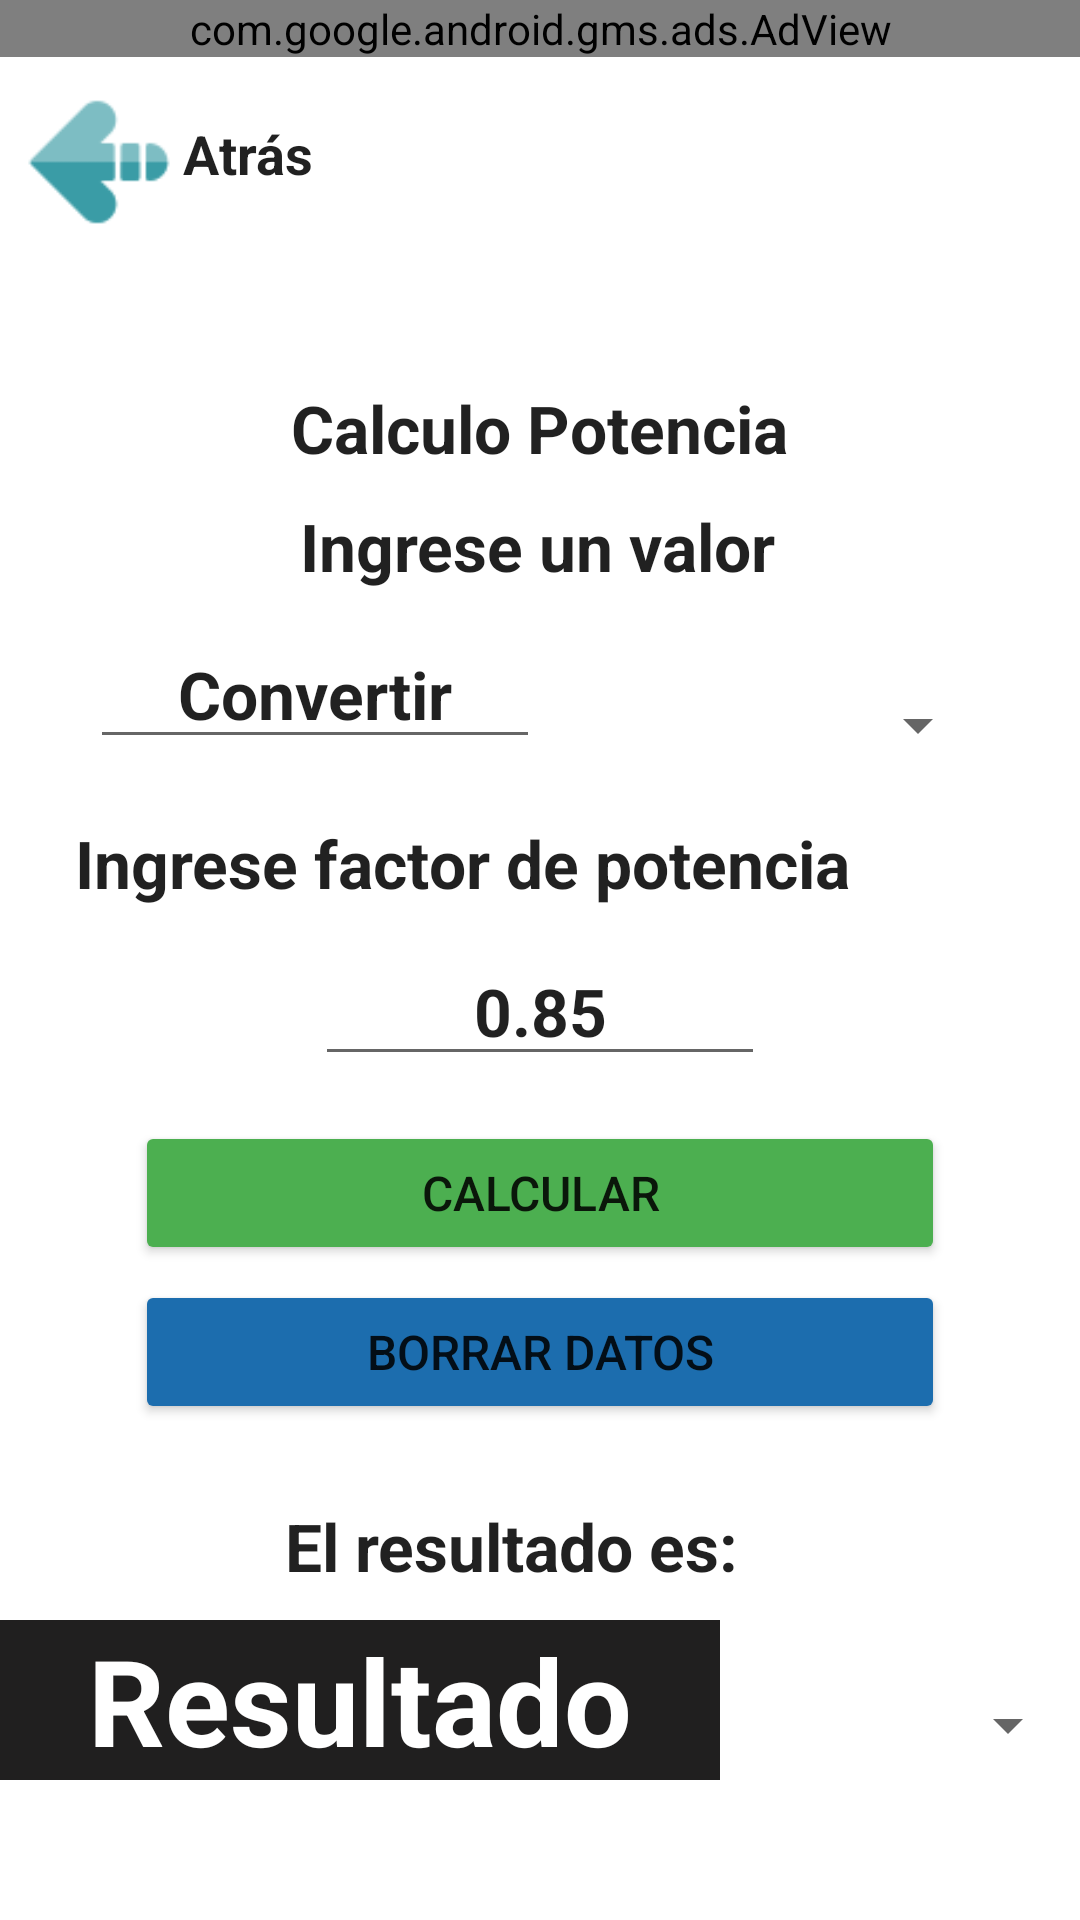

Named icons in this screenshot (1080×1920) and their bounding boxes, box=[x1, y1, x2, y2]:
flecha izquierda: box=[29, 100, 170, 224]
